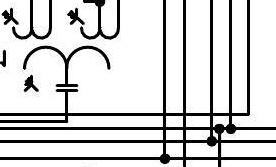115_cvt_3p: (1, 7, 121, 92)
